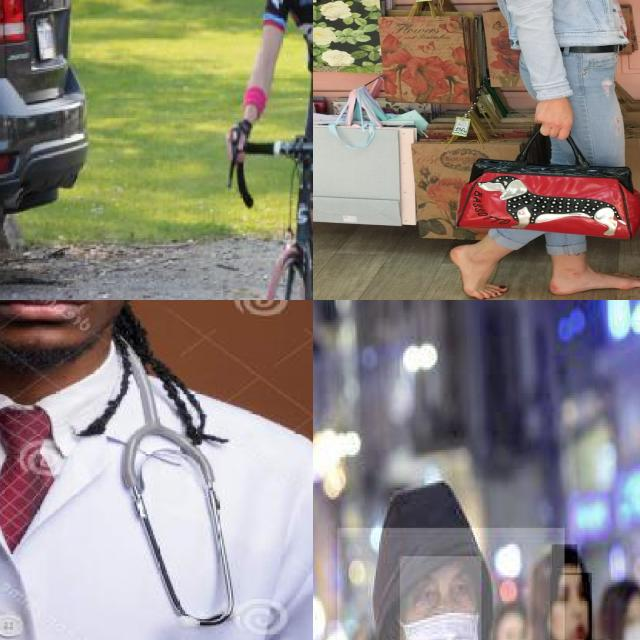Barefoots: (450, 245, 508, 300), (549, 269, 640, 295)
face_mask: (399, 556, 481, 640), (622, 603, 640, 640)
face_nomask: (550, 572, 593, 640)
hand_noglove: (221, 121, 254, 164)
head_nohelmet: (384, 480, 480, 580), (603, 575, 640, 620), (552, 544, 579, 575)
person: (0, 300, 313, 640), (337, 528, 566, 640), (240, 0, 313, 300)
